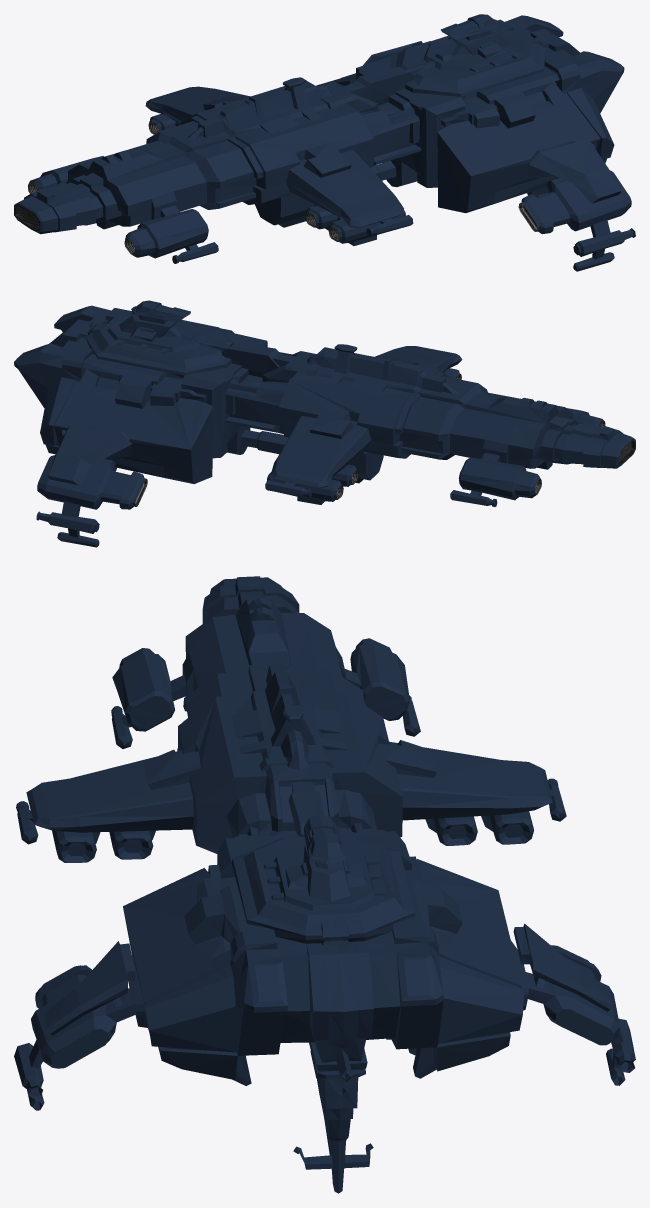
File: aerobat.obj
3 views of the same model, one above another, from view 1: azimuth 30°, elevation 25°; view 2: azimuth 150°, elevation 25°; view 3: azimuth 270°, elevation 25° (orthographic). The views are drawn at different scales.
Visible parts, largest first — view 1: CBc1.2; view 2: CBc1.2; view 3: CBc1.2.
Part boxes in pixels (bbox=[...]): CBc1.2: bbox=[14, 14, 635, 271]; CBc1.2: bbox=[14, 300, 635, 547]; CBc1.2: bbox=[14, 576, 635, 1193].
Size of the model in its own units: 1588 by 532 by 987.
Materials: 2 (1 with a texture image).
